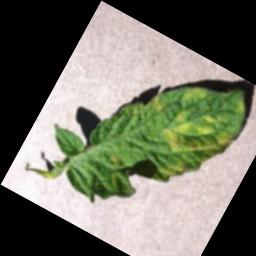Leaf_Mold: (142, 66, 256, 199), (144, 89, 168, 114)
